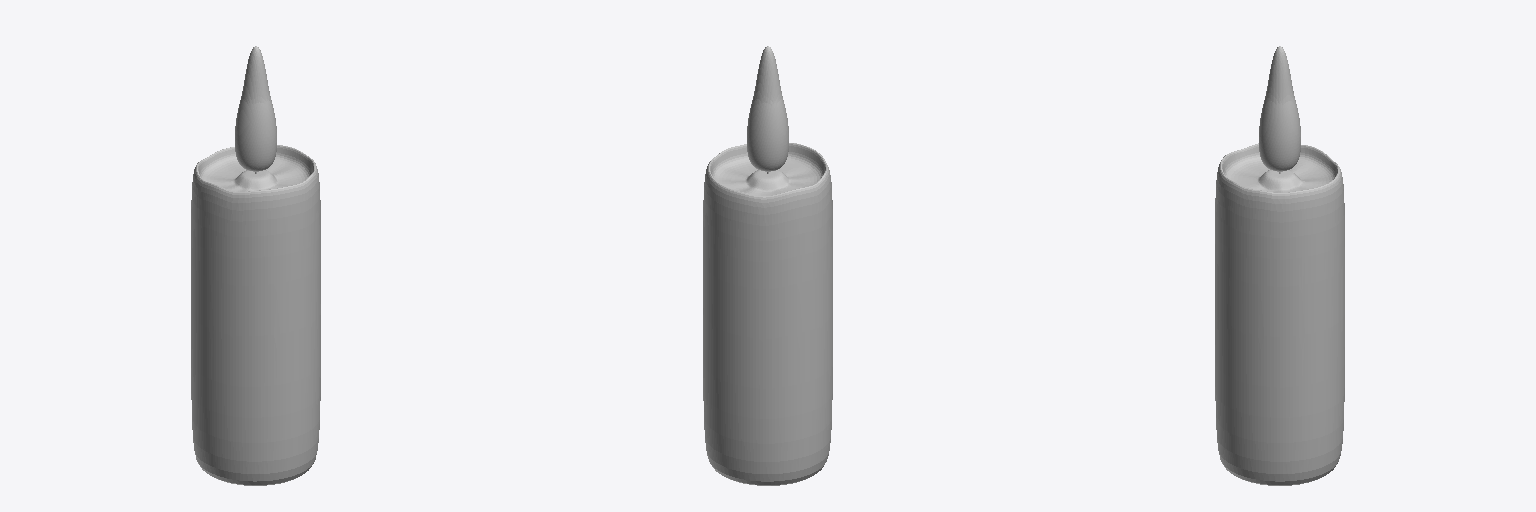
The model's file is cnadle_fire.obj.
3 renders of one model, left to right at view 1: azimuth 30°, elevation 25°; view 2: azimuth 150°, elevation 25°; view 3: azimuth 270°, elevation 25°, orthographic.
Bounding box in the file's own units: 0.3592 × 1.27 × 0.3592.